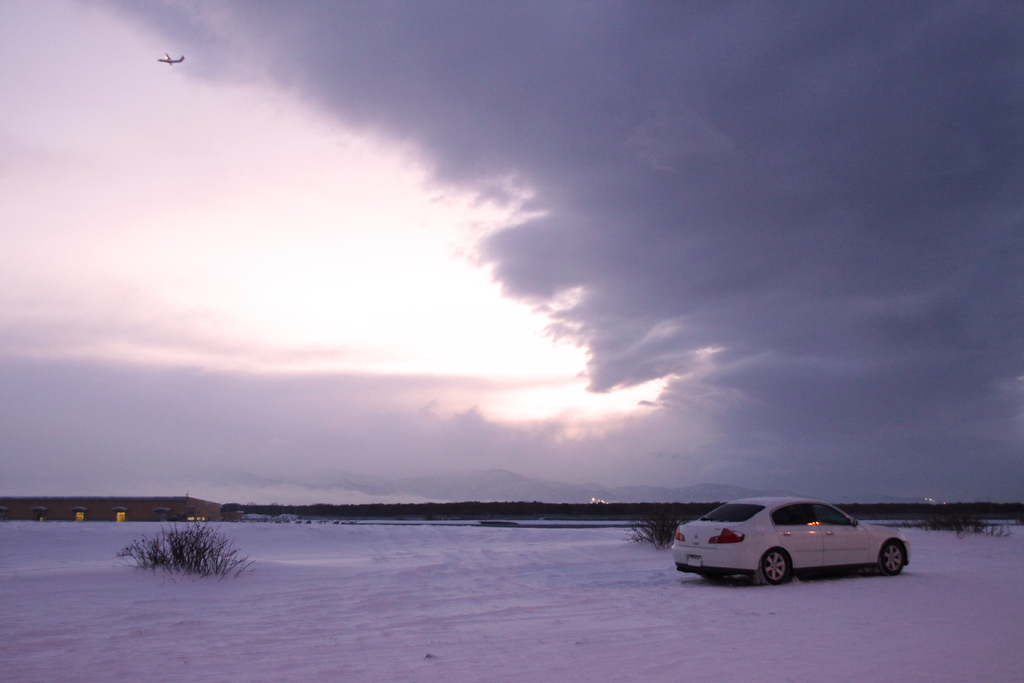Car: (672, 493, 912, 590)
